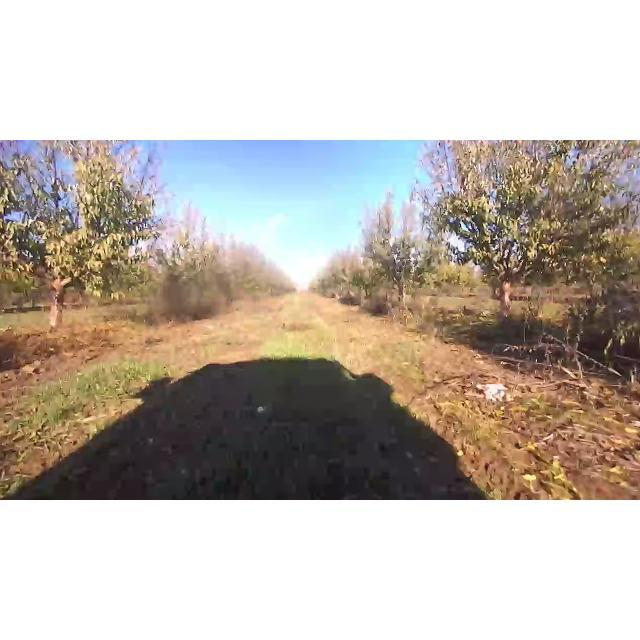direk: (412, 140, 632, 342), (1, 140, 168, 342), (360, 179, 436, 327), (130, 196, 210, 330), (324, 247, 368, 299), (352, 258, 378, 300)
